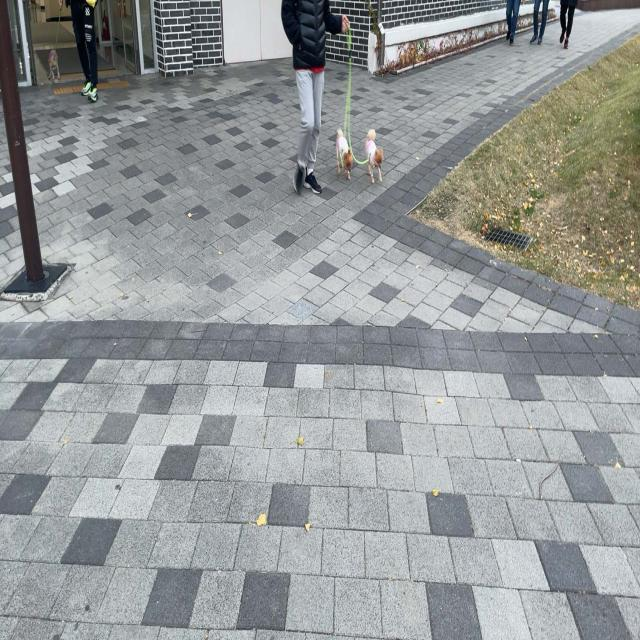Leashed_Dog: (308, 14, 384, 187), (309, 16, 354, 180), (46, 0, 80, 81)
